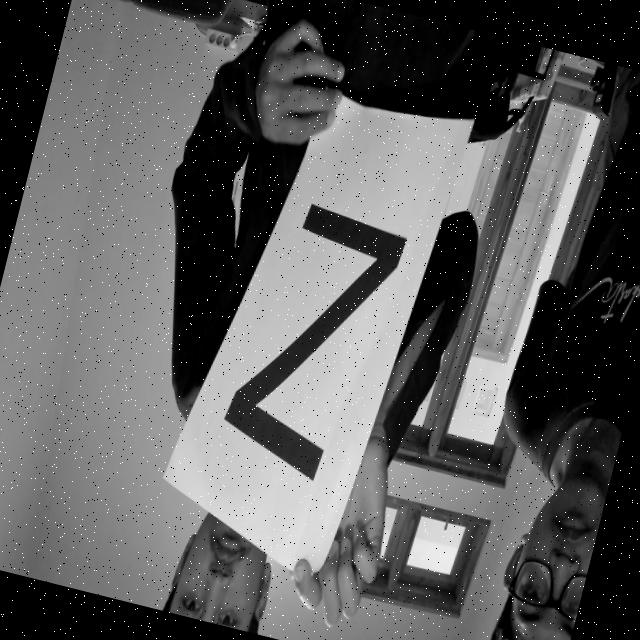z: (204, 132, 436, 498)
